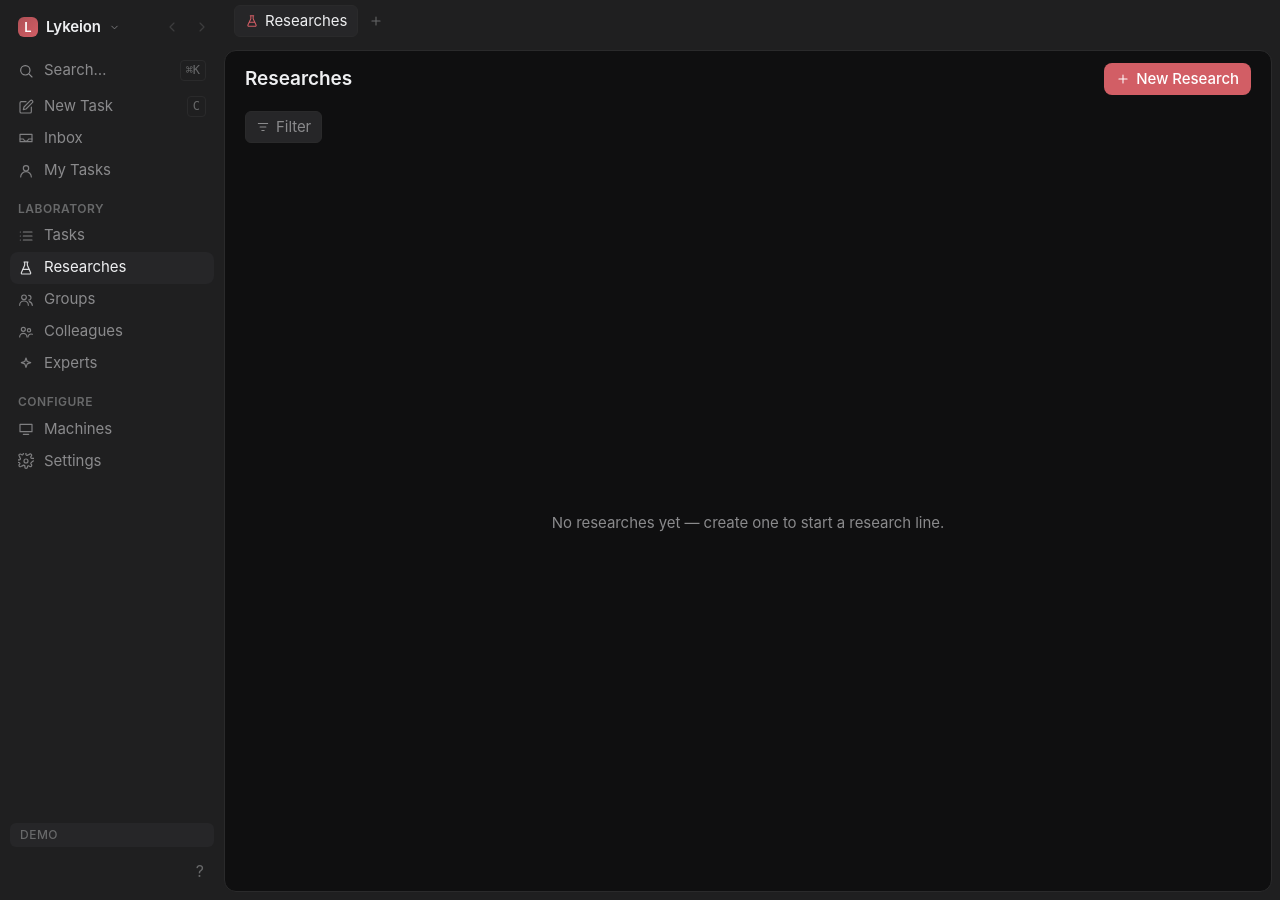
opens Colleagues from the rail and lists the lab's own member
Click the link "Colleagues" at (70, 331), box [18,321,123,340]
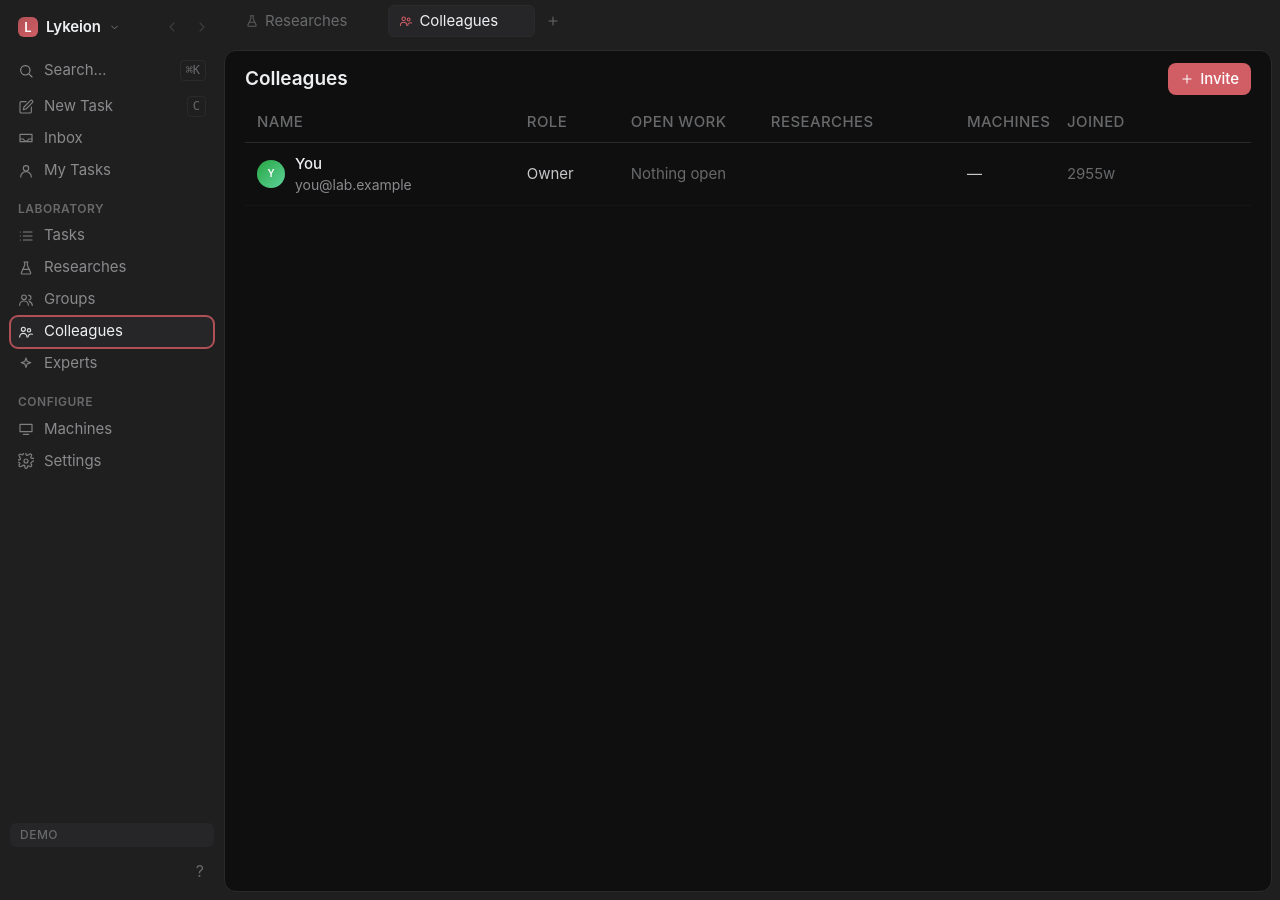
Now the heading "Colleagues" is shown, box [245,67,348,91]
Now the text "You" is shown, box [295,152,322,175]
